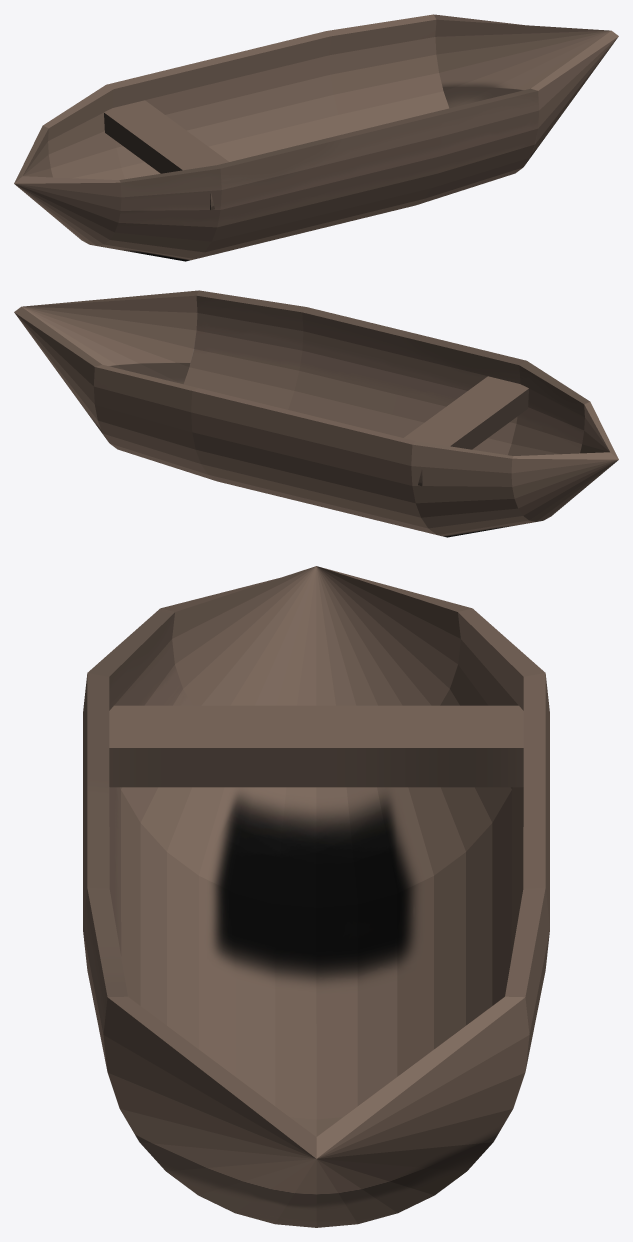
File: boat.fbx
3 renders of one model, top to bottom at view 1: azimuth 30°, elevation 25°; view 2: azimuth 150°, elevation 25°; view 3: azimuth 270°, elevation 25°, orthographic. The views are drawn at different scales.
Parts seen in each view (by area): view 1: Cylinder; view 2: Cylinder; view 3: Cylinder.
Part boxes in pixels (box(x1,y1,x2,y2)): Cylinder: box(14, 14, 618, 261); Cylinder: box(14, 290, 618, 537); Cylinder: box(83, 566, 549, 1227).
Size of the model in its own units: 429 by 85.72 by 143.
